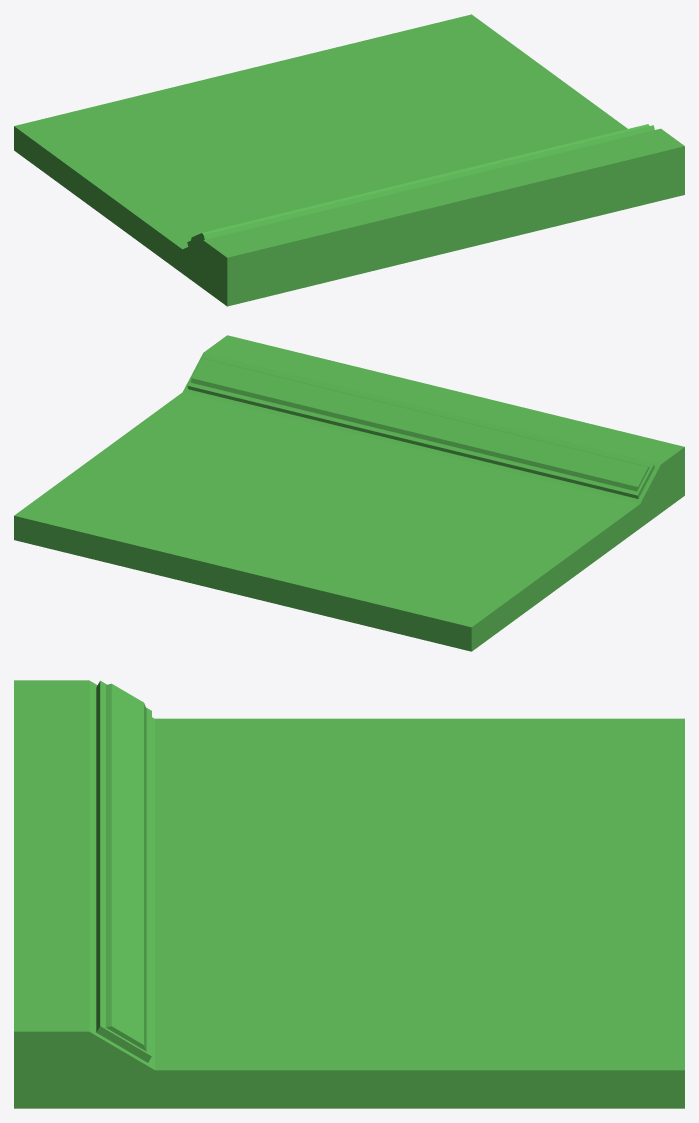
The model's file is zemintekkenarkisa.fbx.
The picture shows the model from 3 angles, top to bottom: view 1: azimuth 30°, elevation 25°; view 2: azimuth 150°, elevation 25°; view 3: azimuth 270°, elevation 25°; orthographic projection. The views are drawn at different scales.
Visible parts, largest first — view 1: Cube.011; view 2: Cube.011; view 3: Cube.011.
Boxes of the visible parts, x1=… form: Cube.011: x1=14, y1=14, x2=684, y2=306; Cube.011: x1=14, y1=335, x2=684, y2=651; Cube.011: x1=14, y1=680, x2=684, y2=1108.
Bounding box in the file's own units: 2284 × 242 × 1844.
